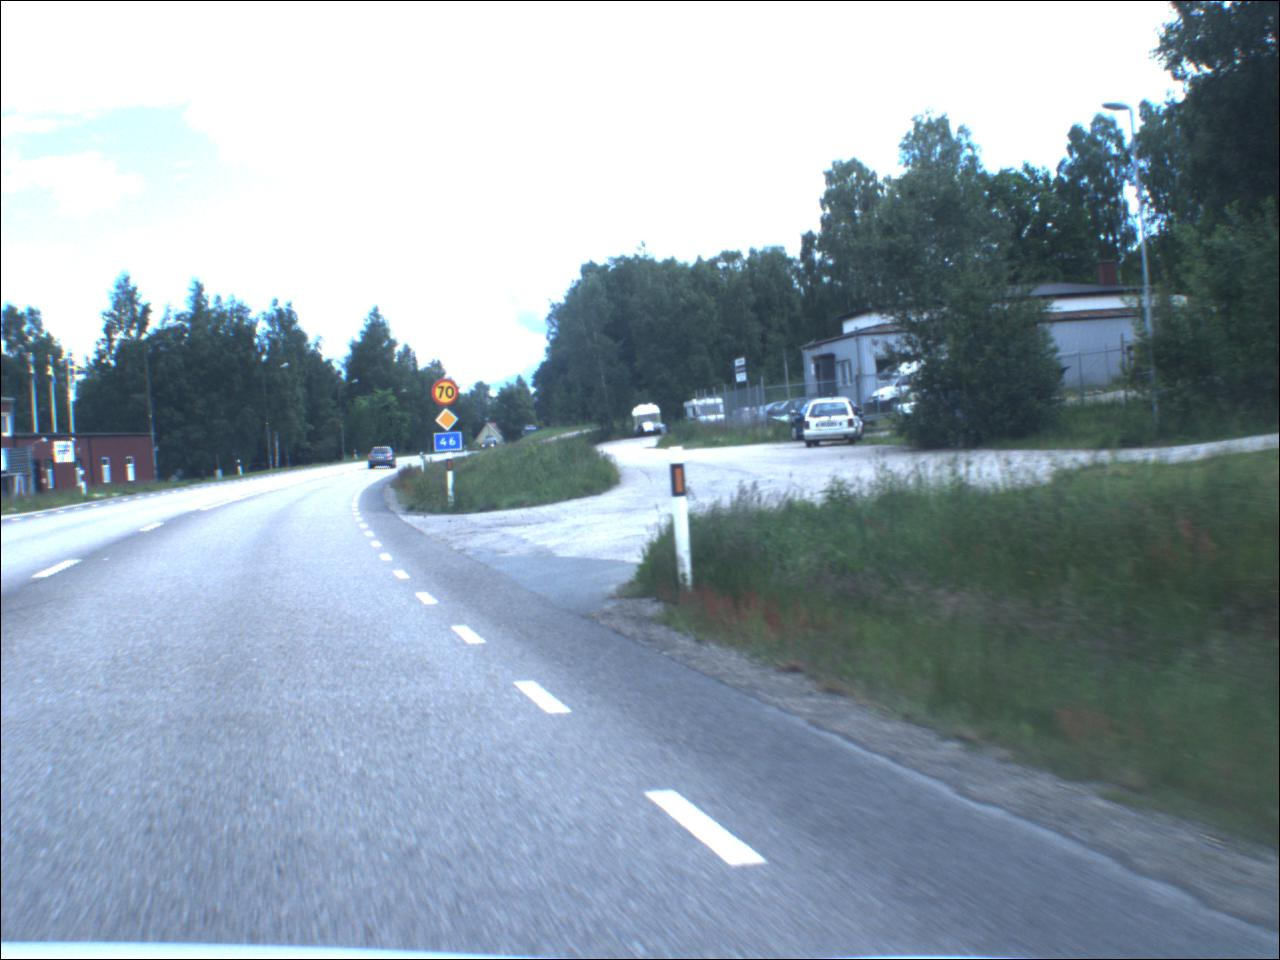70_SIGN: (431, 380, 463, 408)
PRIORITY_ROAD: (435, 409, 462, 433)
